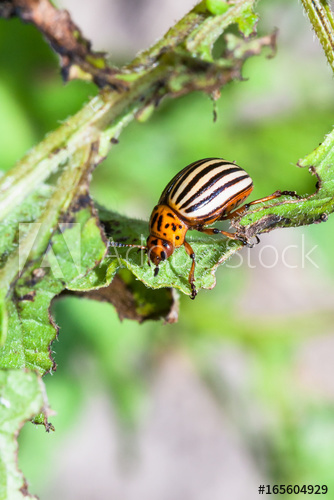hrosc: (139, 152, 253, 275)
